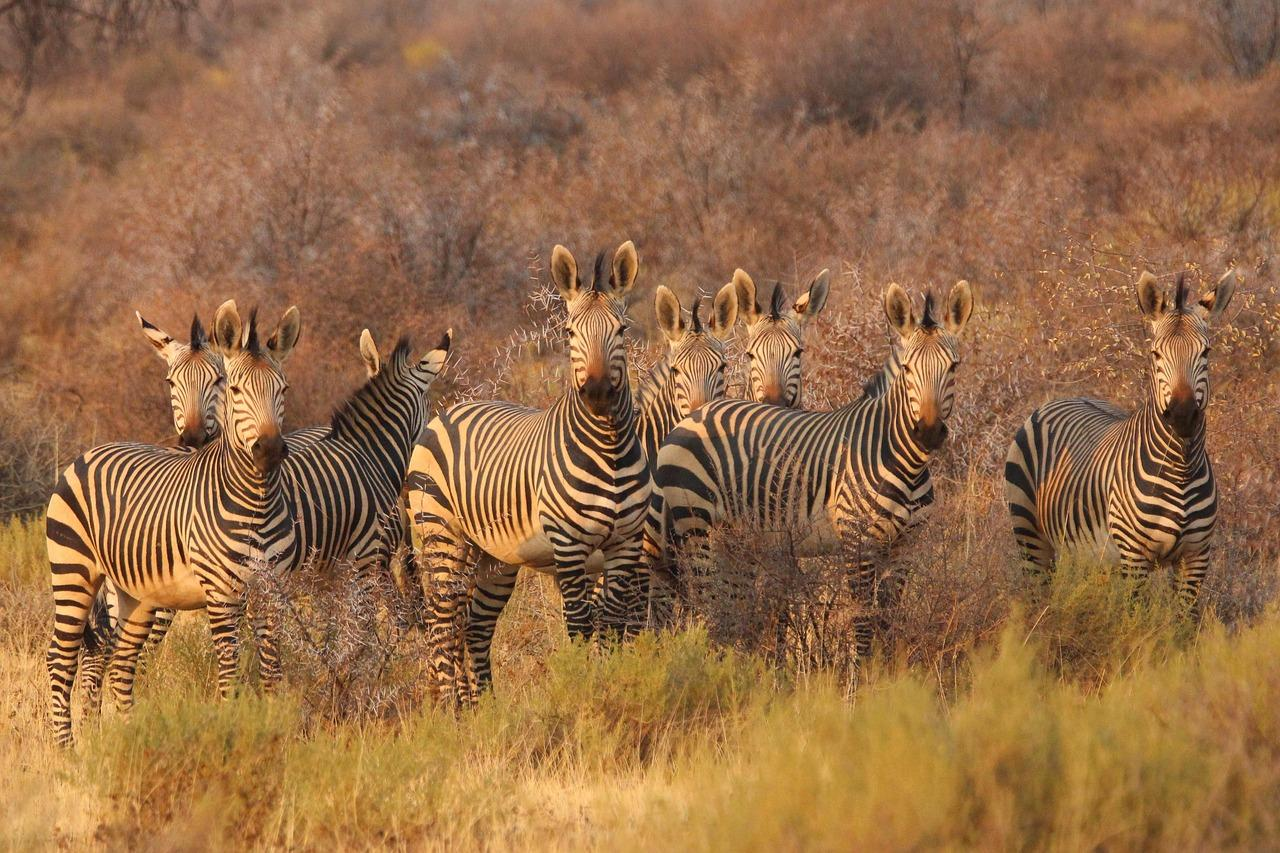Non_Gorille: (20, 120, 1241, 732)
